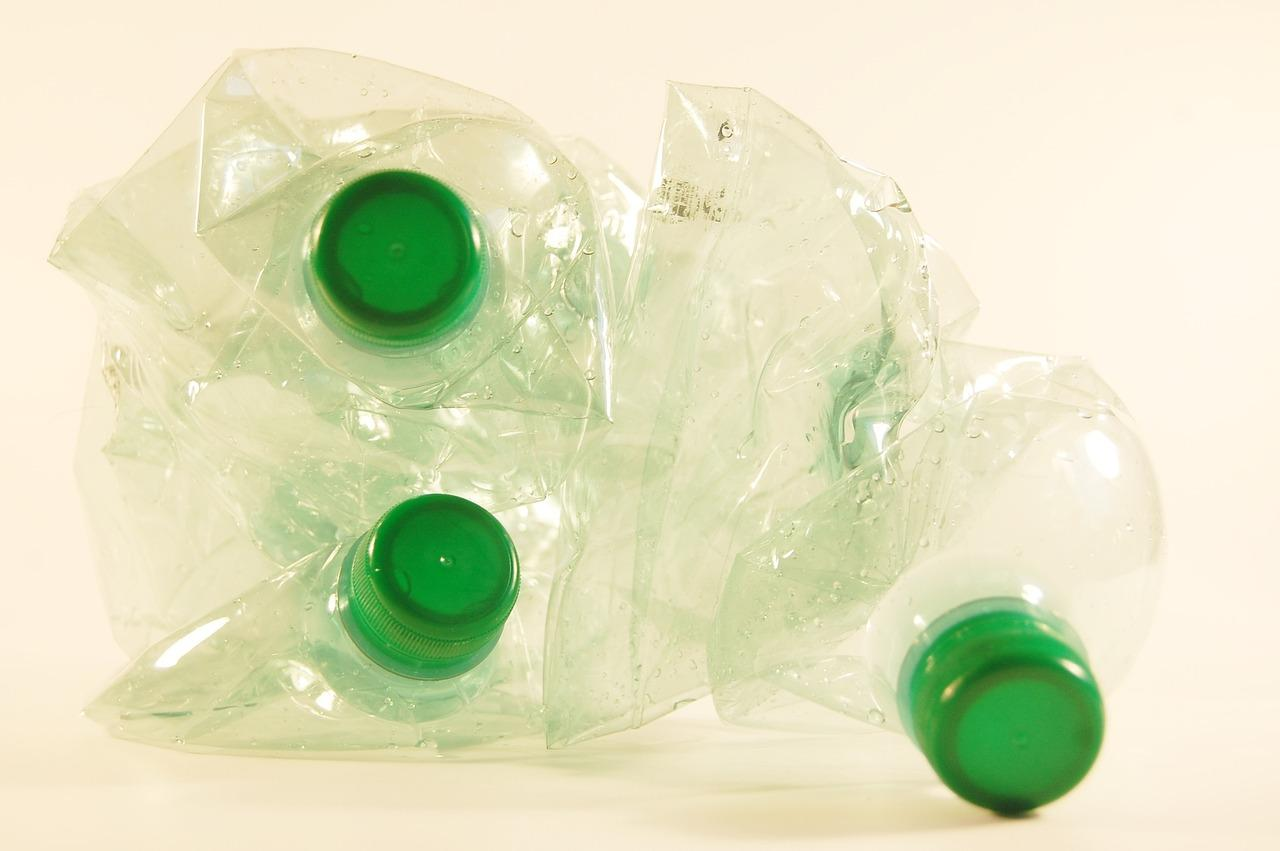Plastic: (577, 79, 1156, 819), (72, 40, 622, 492), (89, 485, 572, 757)
